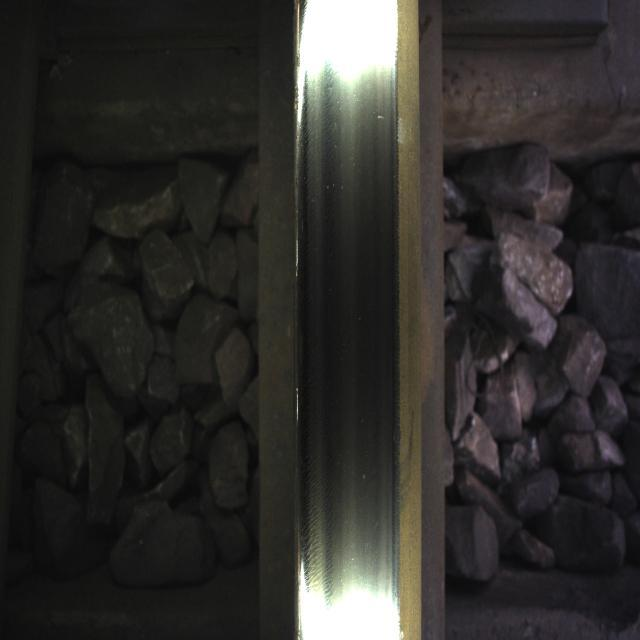normal: (300, 38, 400, 546)
